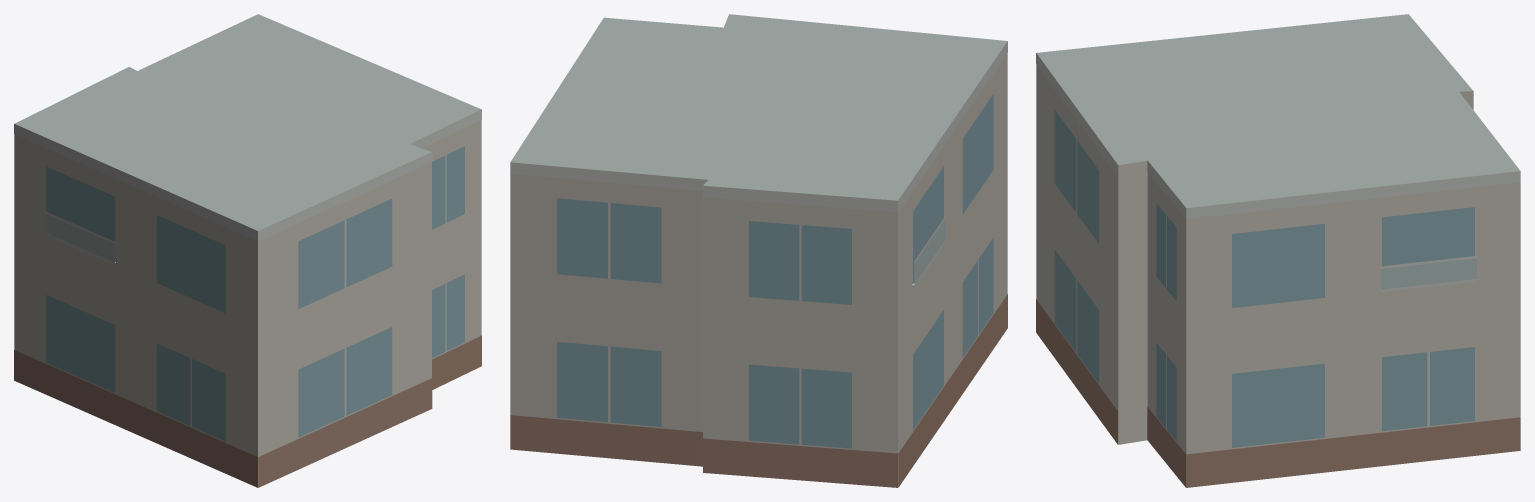
Rendered from survey-upis-32516757.glb.
3 renders of one model, left to right at view 1: azimuth 30°, elevation 25°; view 2: azimuth 150°, elevation 25°; view 3: azimuth 270°, elevation 25°, orthographic. The views are drawn at different scales.
Visible parts, largest first — view 1: survey-upis-32516757.tmp; view 2: survey-upis-32516757.tmp; view 3: survey-upis-32516757.tmp.
Part boxes in pixels (<box>): survey-upis-32516757.tmp: <box>14,14,481,487</box>; survey-upis-32516757.tmp: <box>510,14,1007,487</box>; survey-upis-32516757.tmp: <box>1036,14,1520,487</box>.
Size of the model in its own units: 9.09 by 6.1 by 9.59.
